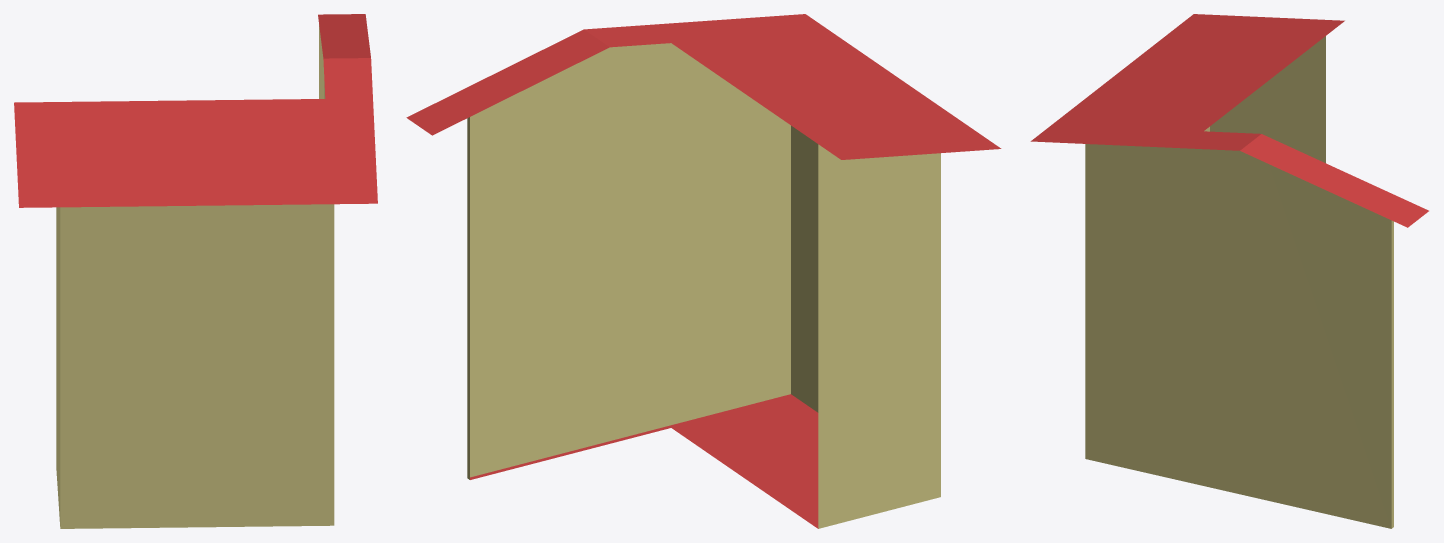
The picture shows the model from 3 angles, left to right: view 1: azimuth 30°, elevation 25°; view 2: azimuth 150°, elevation 25°; view 3: azimuth 270°, elevation 25°; orthographic projection. The views are drawn at different scales.
Parts seen in each view (by area): view 1: group_5, group_3, group_4; view 2: group_5, group_3, group_6, group_4; view 3: group_5, group_3, group_4.
Boxes of the visible parts, x1,y1,x2,y2 form: group_5: (56,24,334,528); group_3: (14,14,377,207); group_4: (29,14,373,206); group_5: (467,43,940,528); group_3: (406,14,1001,159); group_6: (470,394,818,528); group_4: (407,15,988,144); group_5: (1085,36,1393,528); group_3: (1030,14,1428,227); group_4: (1031,18,1427,227).
Size of the model in its own units: 9.35 by 7.38 by 7.4.
